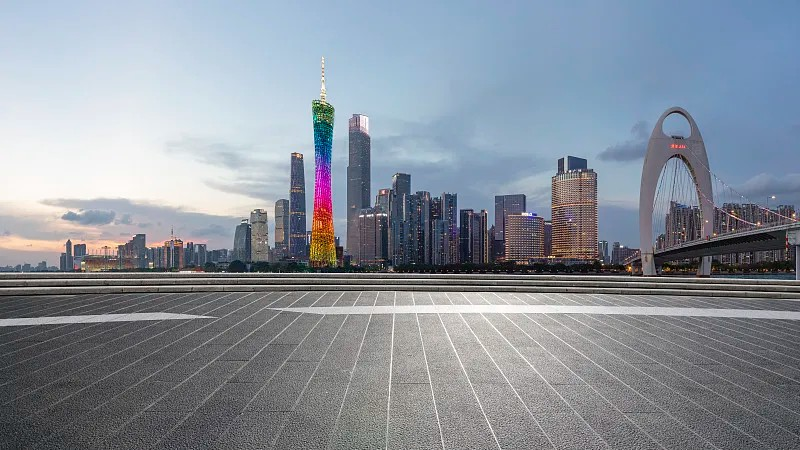Canton: (307, 56, 338, 267)
